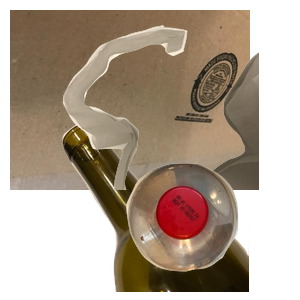cardboard: (10, 10, 250, 190)
glass: (60, 120, 300, 300)
plastic: (124, 161, 300, 300)
trash: (60, 23, 300, 203)
